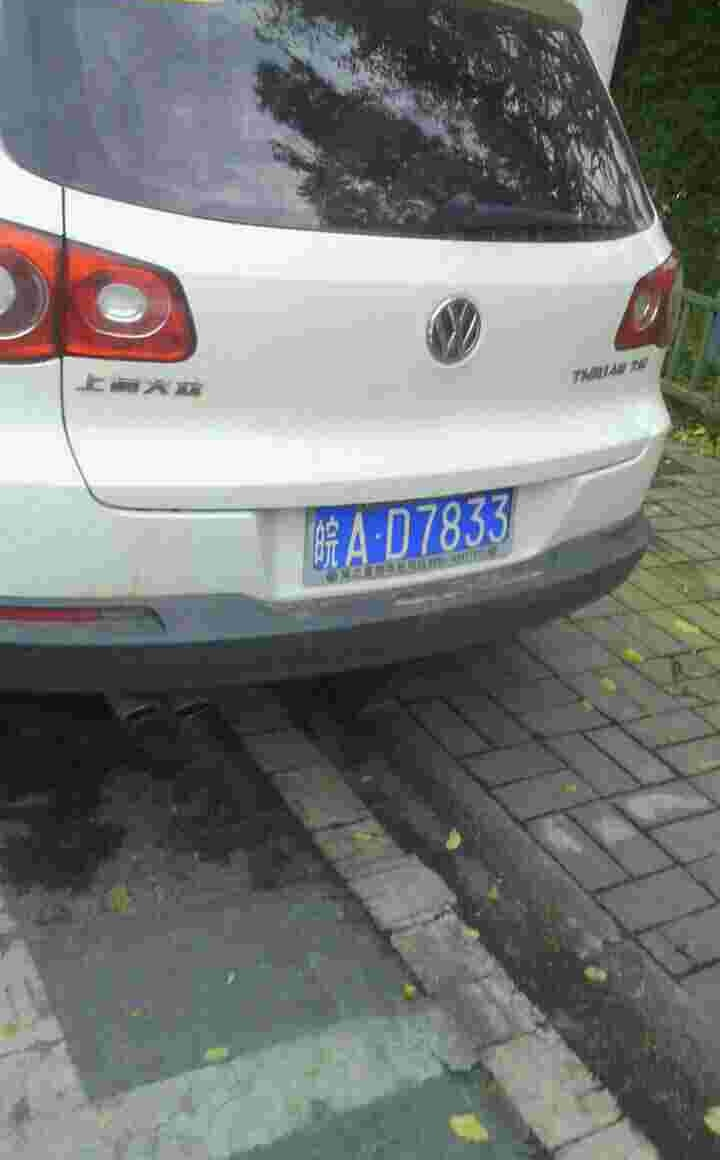plate: (314, 473, 525, 589)
